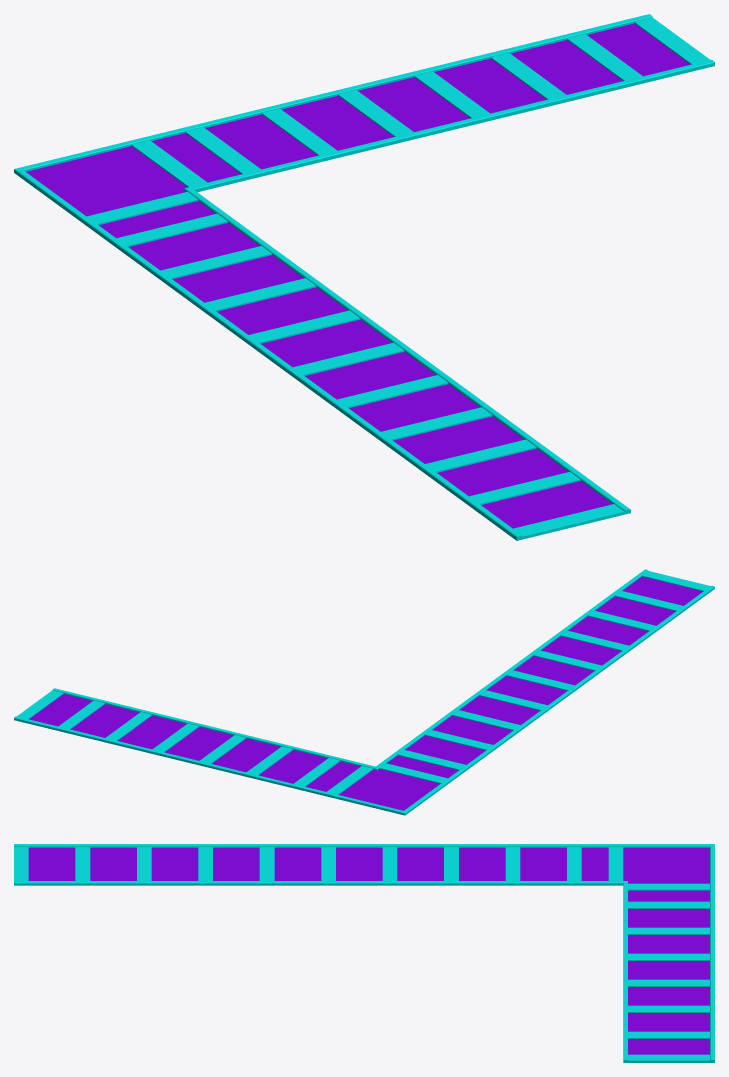
Rendered from HallBMetalTrack.fbx.
3 renders of one model, top to bottom at view 1: azimuth 30°, elevation 25°; view 2: azimuth 150°, elevation 25°; view 3: azimuth 270°, elevation 25°, orthographic. The views are drawn at different scales.
Parts seen in each view (by area): view 1: HallBMetalTrack; view 2: HallBMetalTrack; view 3: HallBMetalTrack.
Part boxes in pixels (<box>): HallBMetalTrack: <box>14,14,714,540</box>; HallBMetalTrack: <box>14,569,714,815</box>; HallBMetalTrack: <box>14,844,714,1062</box>.
Bounding box in the file's own units: 1248 × 7.76 × 1711.
